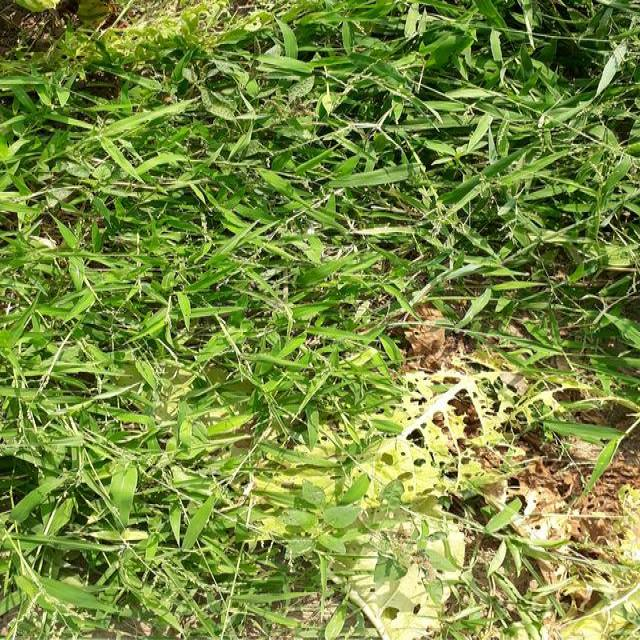weed: (7, 35, 331, 640), (346, 24, 640, 379)
